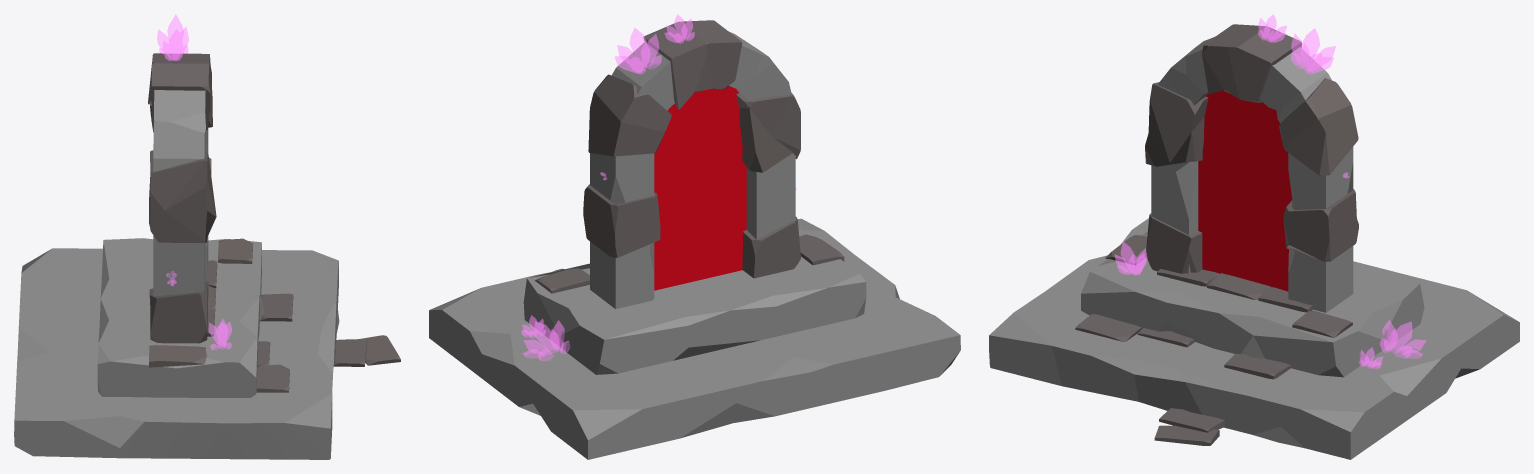
Rendered from portale.fbx.
3 renders of one model, left to right at view 1: azimuth 30°, elevation 25°; view 2: azimuth 150°, elevation 25°; view 3: azimuth 270°, elevation 25°, orthographic. The views are drawn at different scales.
Parts seen in each view (by area): view 1: portale; view 2: portale; view 3: portale.
Boxes of the visible parts, bbox=[...] form: portale: bbox=[14, 14, 400, 459]; portale: bbox=[429, 14, 960, 459]; portale: bbox=[989, 14, 1519, 459].
Size of the model in its own units: 413 by 316 by 439.
